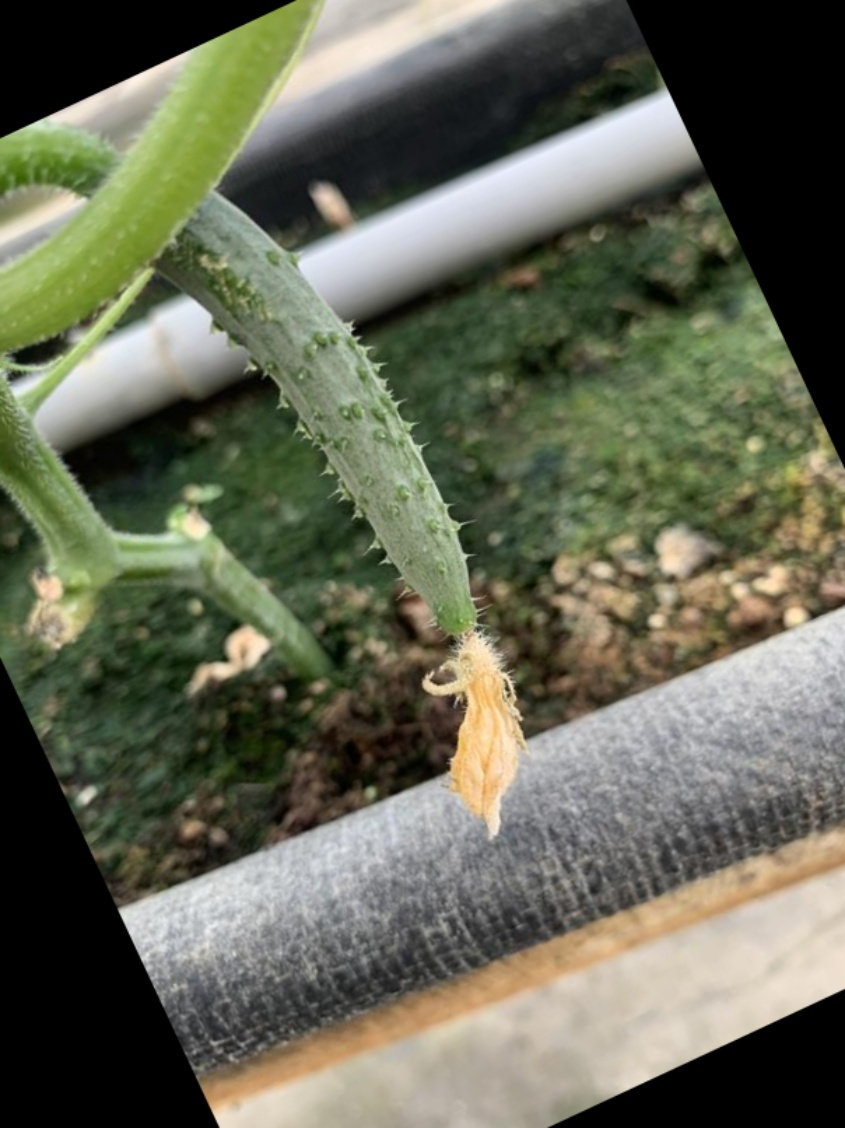growth: (153, 215, 599, 838)
